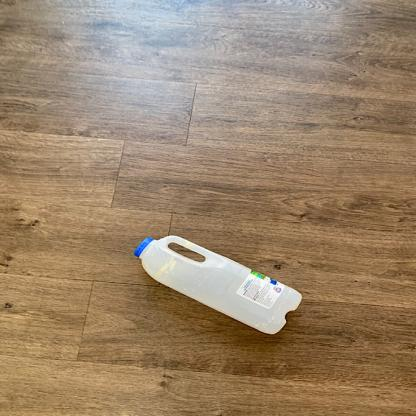trash: (136, 235, 304, 336)
